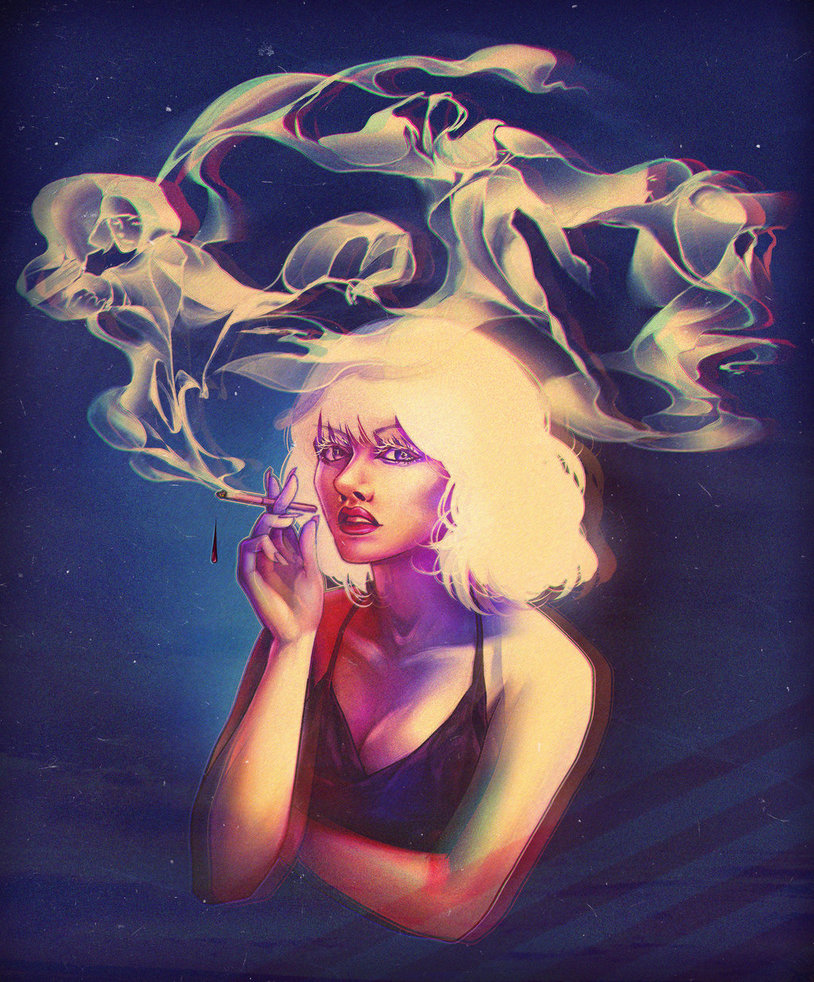cigarette: (215, 484, 322, 518)
